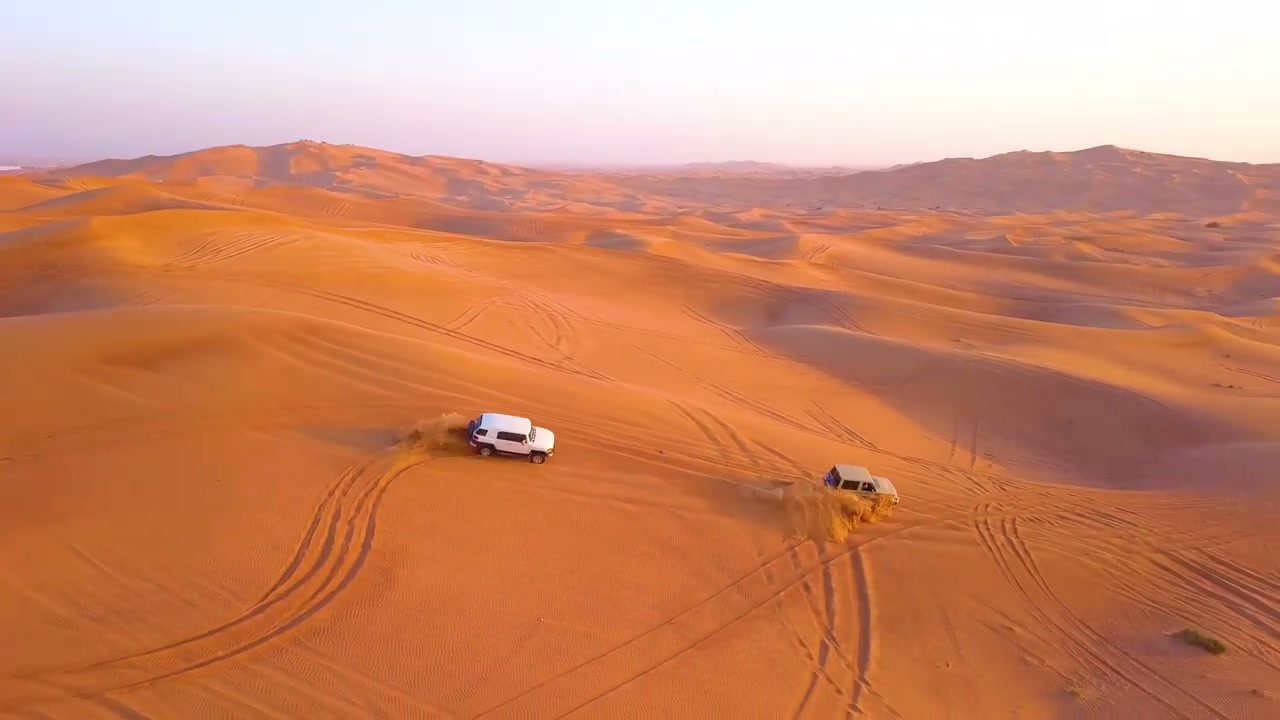vehicle_track: (0, 456, 429, 709), (473, 525, 923, 719), (971, 497, 1225, 719), (253, 280, 582, 376), (681, 305, 776, 358), (166, 233, 294, 268), (806, 401, 876, 449)
